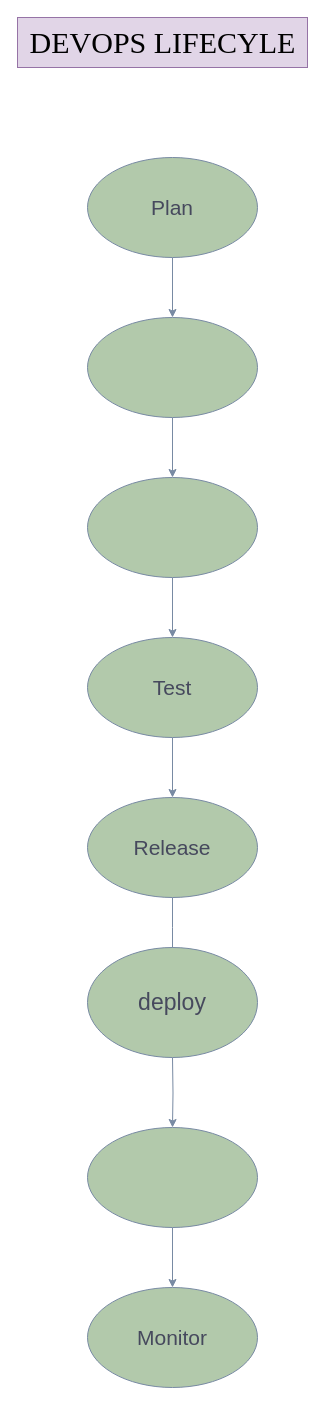
This 325x1405 diagram has some shape labels left out. The shapes that lost their labels are listed below. From the top down, each one's centre as x and y in pixels, then its label:
[172,367]: Develop
[172,527]: Build
[172,1177]: Operate
